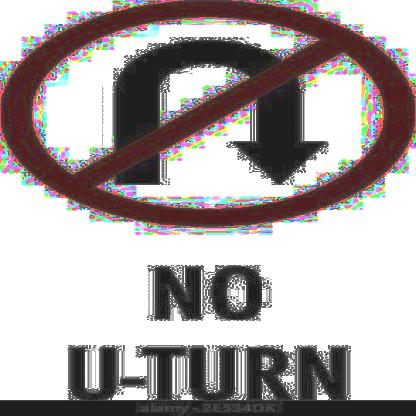No U-turn: (0, 0, 416, 229)
